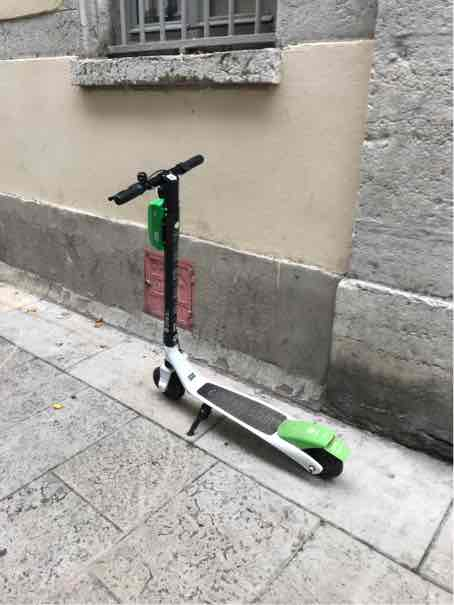scooter: (95, 140, 357, 490)
